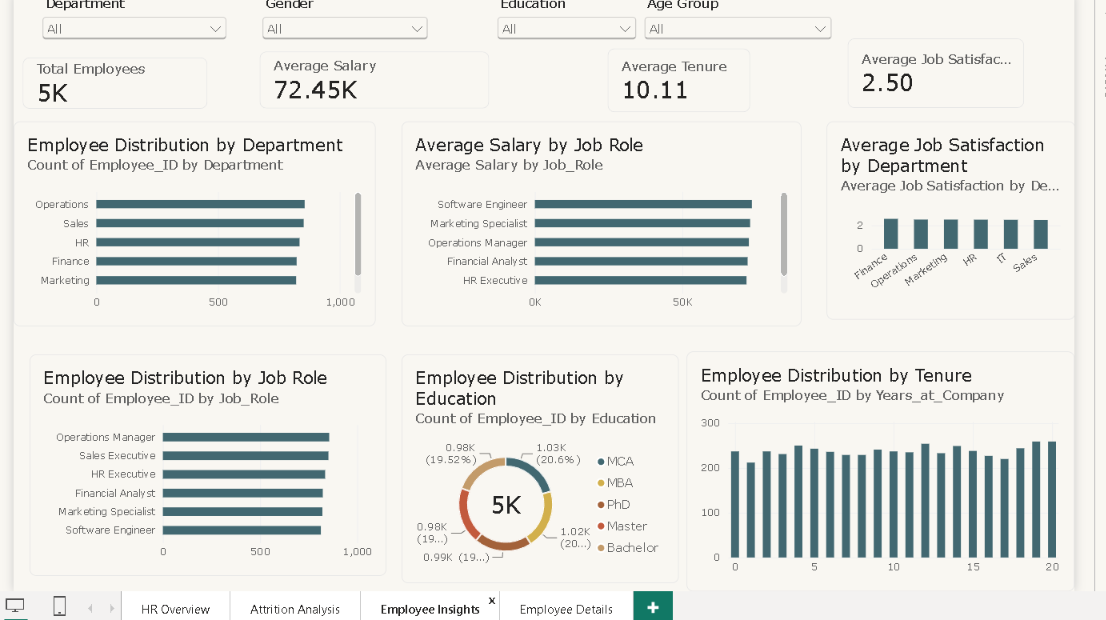

The dashboard page shown, as its layout file describes it:
{"tool":"powerbi","page":{"name":"Employee Insights","canvas":[1280,720],"ordinal":2},"visuals":[{"type":"cardVisual","fields":{"Data":["hr_employees.Total Employees"]},"box":[11.2,75.9,223.9,62.2],"z":0},{"type":"cardVisual","fields":{"Data":["hr_employees.Average Salary by Department"]},"box":[297.3,68.4,277.4,69.7],"z":1000},{"type":"cardVisual","fields":{"Data":["hr_employees.Average Tenure"]},"box":[716.5,64.7,172.9,77.1],"z":2000},{"type":"cardVisual","fields":{"Data":["hr_employees.Average Job Satisfaction"]},"box":[1006.4,53.5,214,84.6],"z":3000},{"type":"clusteredBarChart","title":"Employee Distribution by Department","fields":{"Category":["hr_employees.Department"],"Y":["CountNonNull(hr_employees.Employee_ID)"]},"box":[0,153,436.6,247.5],"z":4000},{"type":"clusteredBarChart","title":"Employee Distribution by Job Role","fields":{"Category":["hr_employees.Job_Role"],"Y":["CountNonNull(hr_employees.Employee_ID)"]},"box":[19.9,434.1,430.4,267.5],"z":5000},{"type":"barChart","title":"Average Salary by Job Role","fields":{"Category":["hr_employees.Job_Role"],"Y":["hr_employees.Average Salary by Department"]},"box":[467.7,153,482.7,247.5],"z":6000},{"type":"donutChart","title":"Employee Distribution by Education","fields":{"Category":["hr_employees.Education"],"Y":["CountNonNull(hr_employees.Employee_ID)"]},"box":[467.7,434.1,334.6,276.2],"z":7000},{"type":"clusteredColumnChart","title":"Employee Distribution by Tenure","fields":{"Category":["hr_employees.Years_at_Company"],"Y":["CountNonNull(hr_employees.Employee_ID)"]},"box":[812.3,430.4,467.7,289.8],"z":8000},{"type":"clusteredColumnChart","title":"Average Job Satisfaction by Department","fields":{"Category":["hr_employees.Department"],"Y":["hr_employees.Average Job Satisfaction"]},"box":[980.2,153,299.8,238.8],"z":9000},{"type":"slicer","fields":{"Values":["hr_employees.Department"]},"box":[29.9,0,231.4,68.4],"z":10000},{"type":"slicer","fields":{"Values":["hr_employees.Gender"]},"box":[296.1,0,209,59.7],"z":11000},{"type":"slicer","fields":{"Values":["hr_employees.Education"]},"box":[579.7,0,176.6,68.4],"z":12000},{"type":"slicer","fields":{"Values":["hr_employees.Age Group"]},"box":[756.3,0,235.1,68.4],"z":13000}]}

Visuals, with their boxes on the page's 1280x720 design canvas (x1, y1, x2, y2). These are canvas units, not pixel positions in the 1106x620 screenshot, which may show the page scaled, cropped or inside an application window:
cardVisual - hr_employees.Total Employees: BBox(11, 76, 235, 138)
cardVisual - hr_employees.Average Salary by Department: BBox(297, 68, 575, 138)
cardVisual - hr_employees.Average Tenure: BBox(716, 65, 889, 142)
cardVisual - hr_employees.Average Job Satisfaction: BBox(1006, 54, 1220, 138)
"Employee Distribution by Department" clusteredBarChart: BBox(0, 153, 437, 400)
"Employee Distribution by Job Role" clusteredBarChart: BBox(20, 434, 450, 702)
"Average Salary by Job Role" barChart: BBox(468, 153, 950, 400)
"Employee Distribution by Education" donutChart: BBox(468, 434, 802, 710)
"Employee Distribution by Tenure" clusteredColumnChart: BBox(812, 430, 1280, 720)
"Average Job Satisfaction by Department" clusteredColumnChart: BBox(980, 153, 1280, 392)
slicer - hr_employees.Department: BBox(30, 0, 261, 68)
slicer - hr_employees.Gender: BBox(296, 0, 505, 60)
slicer - hr_employees.Education: BBox(580, 0, 756, 68)
slicer - hr_employees.Age Group: BBox(756, 0, 991, 68)
